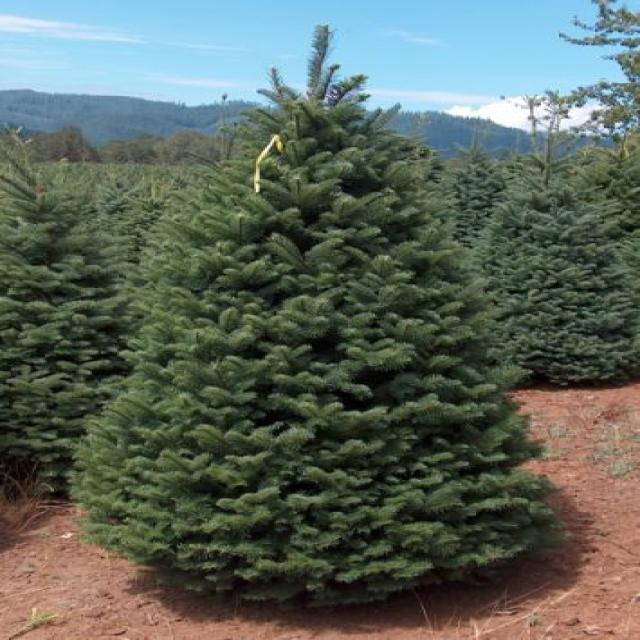Abies: (83, 18, 559, 610)
